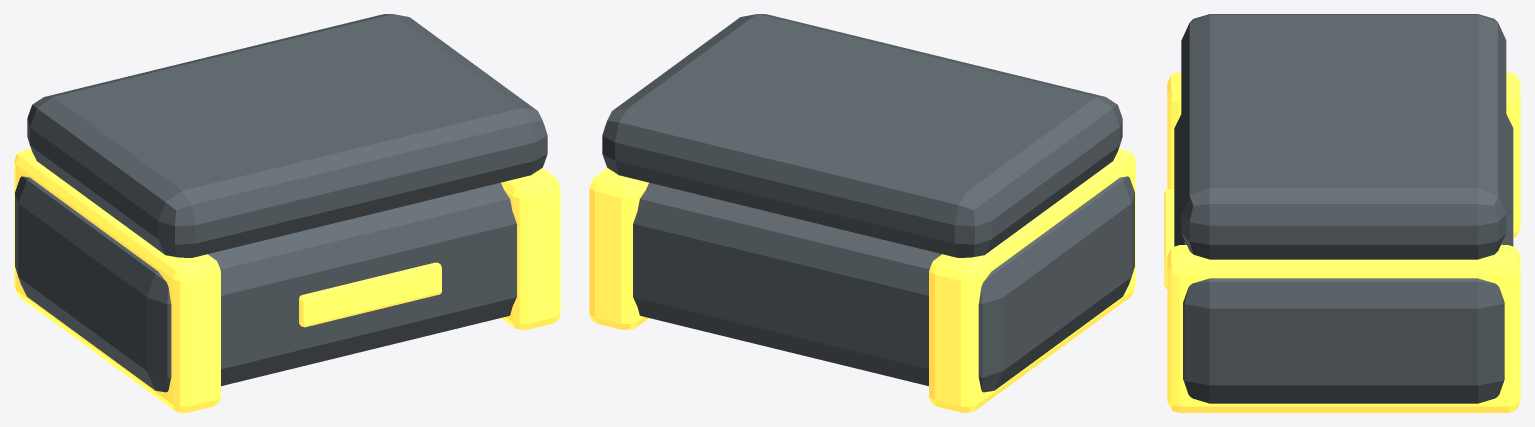
File: CargoCase_Rare.glb
3 renders of one model, left to right at view 1: azimuth 30°, elevation 25°; view 2: azimuth 150°, elevation 25°; view 3: azimuth 270°, elevation 25°, orthographic. The views are drawn at different scales.
Visible parts, largest first — view 1: CargoCase_Rare_Lid, CargoCase_Rare, CargoCase_Rare_Corner_L, CargoCase_Rare_Corner_R, CargoCase_Rare_Mark; view 2: CargoCase_Rare_Lid, CargoCase_Rare, CargoCase_Rare_Corner_L, CargoCase_Rare_Corner_R; view 3: CargoCase_Rare_Lid, CargoCase_Rare, CargoCase_Rare_Corner_R, CargoCase_Rare_Corner_L, CargoCase_Rare_Mark.
Part boxes in pixels (box(x1,y1,x2,y2)): CargoCase_Rare_Lid: box(27, 14, 547, 257); CargoCase_Rare: box(15, 176, 516, 392); CargoCase_Rare_Corner_L: box(14, 148, 220, 412); CargoCase_Rare_Corner_R: box(501, 168, 560, 329); CargoCase_Rare_Mark: box(299, 262, 441, 327); CargoCase_Rare_Lid: box(602, 14, 1122, 257); CargoCase_Rare: box(633, 176, 1134, 392); CargoCase_Rare_Corner_L: box(929, 148, 1135, 412); CargoCase_Rare_Corner_R: box(589, 168, 648, 329); CargoCase_Rare_Lid: box(1181, 14, 1506, 259); CargoCase_Rare: box(1174, 114, 1513, 403); CargoCase_Rare_Corner_R: box(1167, 245, 1520, 412); CargoCase_Rare_Corner_L: box(1167, 72, 1520, 237); CargoCase_Rare_Mark: box(1164, 189, 1174, 288).
Size of the model in its own units: 1.4 by 0.68 by 1.01.
